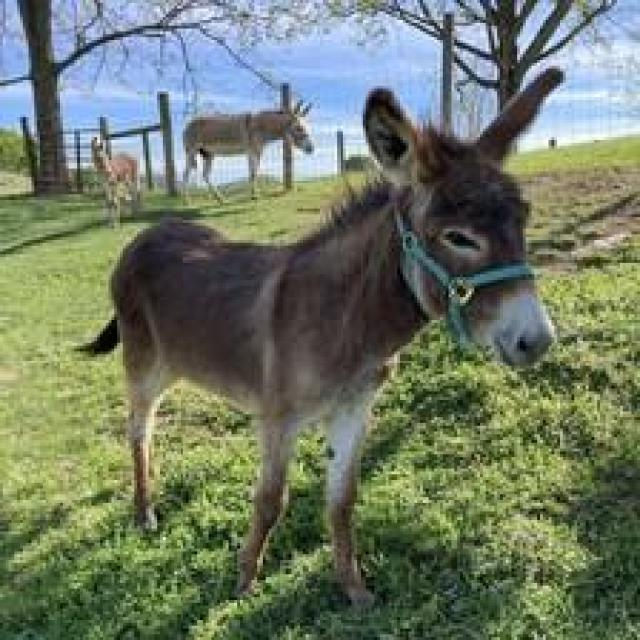Donkey: (71, 63, 563, 611), (180, 97, 311, 203), (89, 134, 140, 226)
